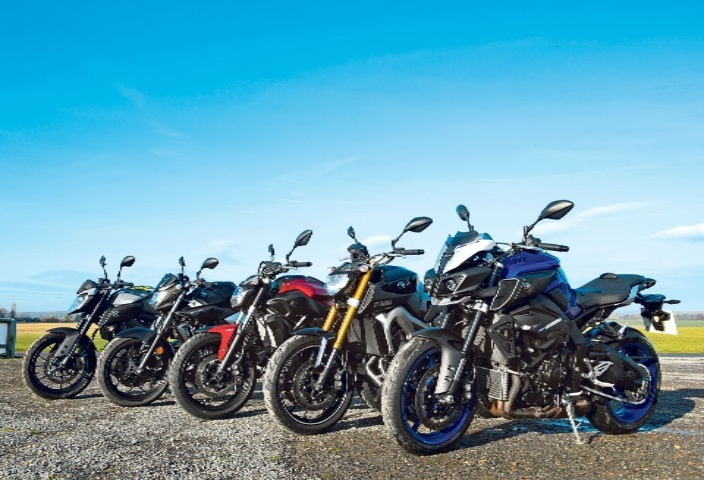motorcycle: (381, 195, 669, 472), (147, 239, 345, 419), (290, 198, 428, 432), (32, 238, 178, 399), (109, 252, 258, 397)
